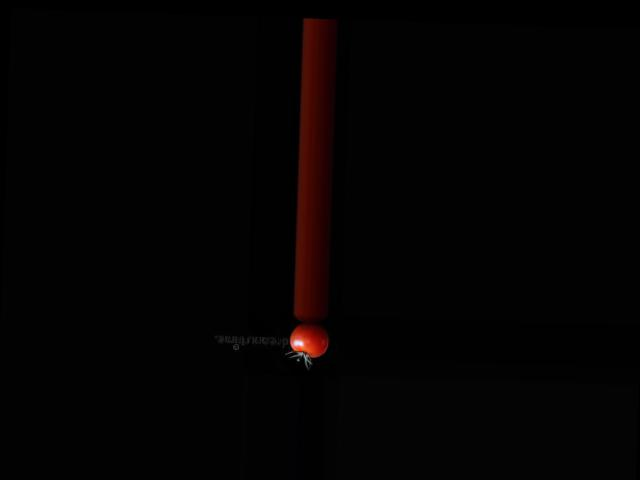tomato: (289, 323, 328, 357)
